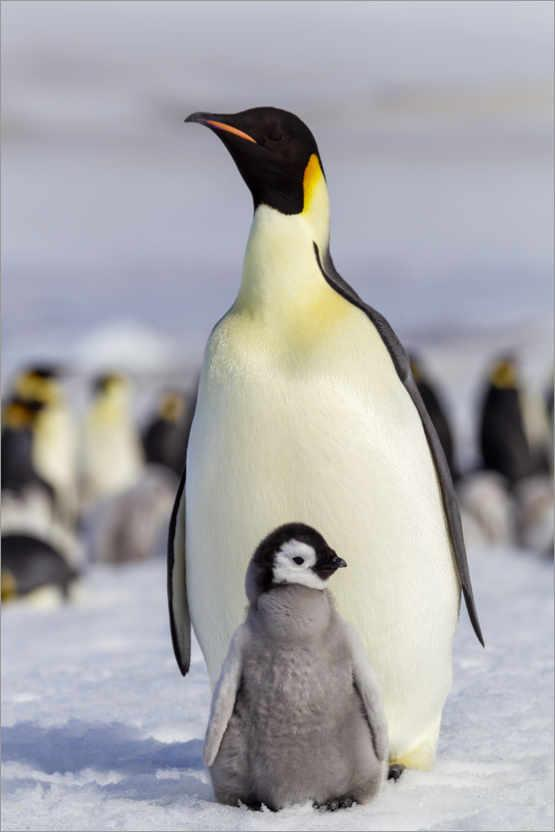emporer: (149, 78, 508, 805)
